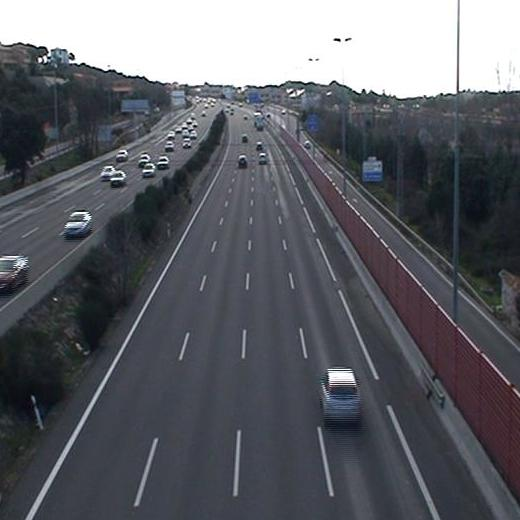car: (323, 367, 358, 424), (237, 155, 247, 168), (259, 152, 267, 163)
